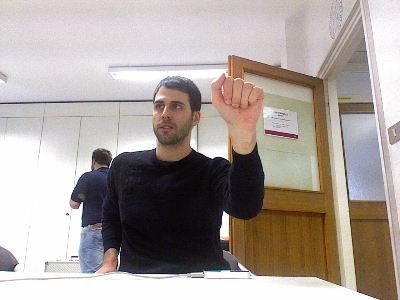石头: (209, 71, 263, 129)
